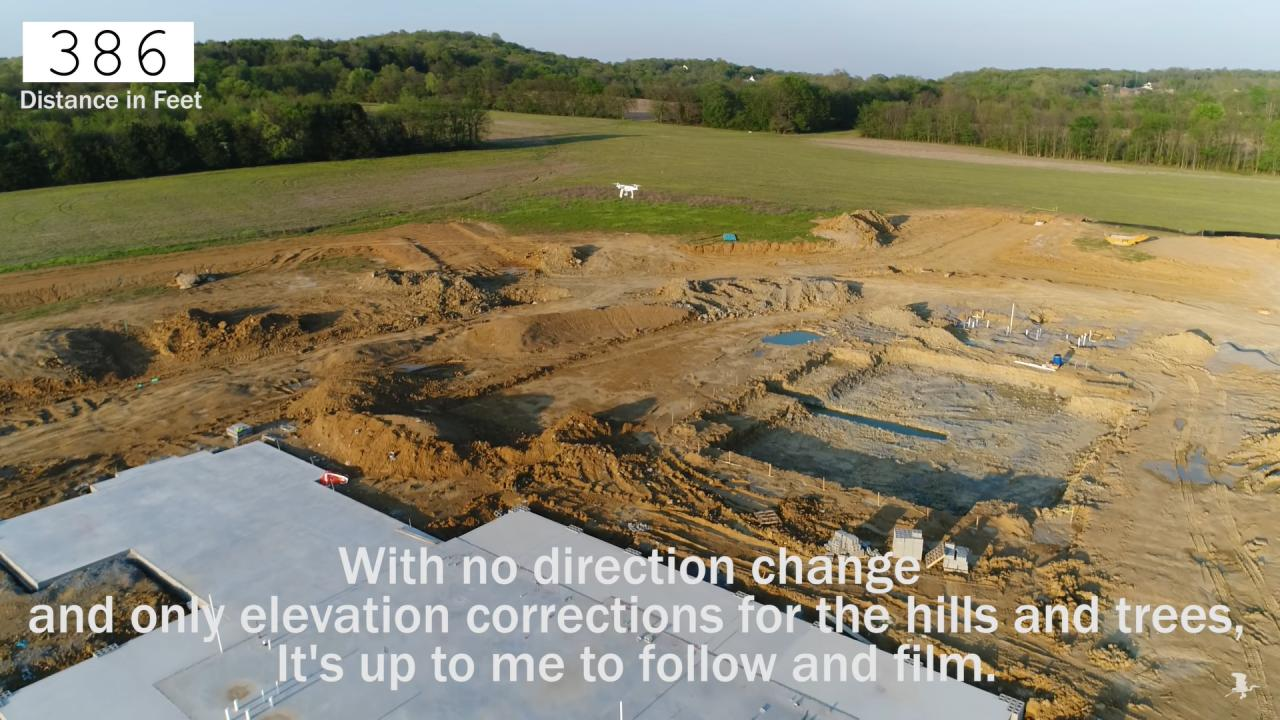Drone: (605, 174, 648, 207)
